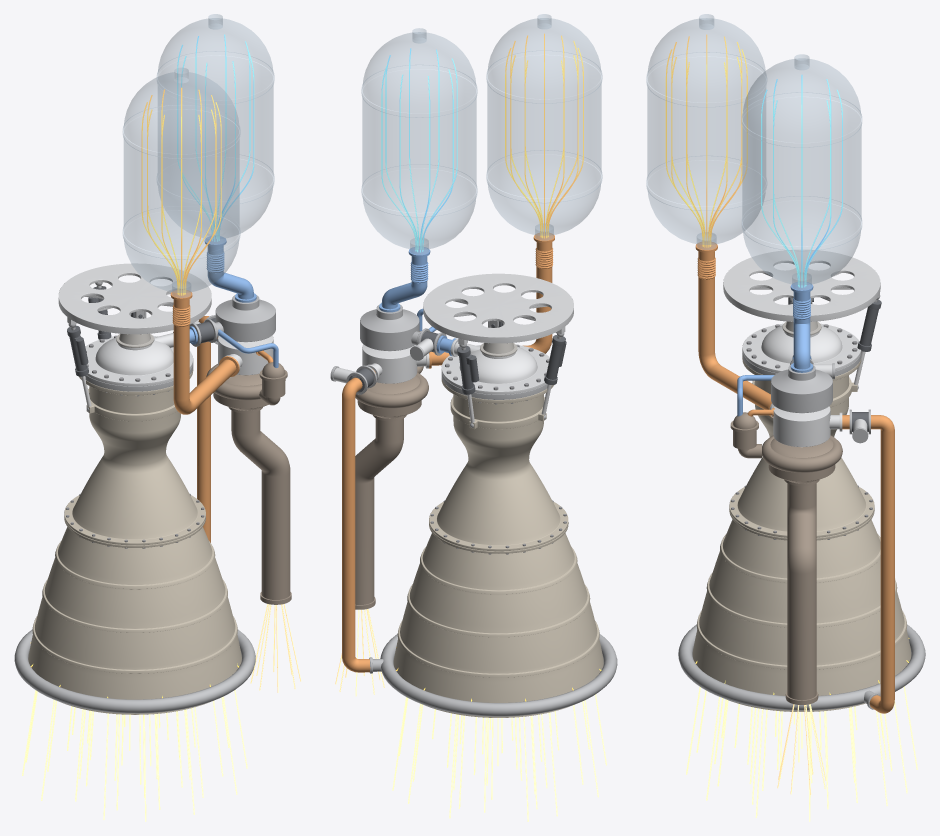
The model's file is gas-generator_d.glb.
The picture shows the model from 3 angles, left to right: view 1: azimuth 30°, elevation 25°; view 2: azimuth 150°, elevation 25°; view 3: azimuth 270°, elevation 25°; orthographic projection. The views are drawn at different scales.
Visible parts, largest first — view 1: GG_Nozzle, GG_TankFuel, GG_TankOxidizer, GG_ChamberJacket, GG_ThrustMount, GG_TurbineExhaust, GG_FuelManifold, GG_FLOW_HotGas, GG_OxidizerDome, GG_FeedLineFuel, GG_FLOW_Fuel, GG_FLOW_Oxidizer (+9 smaller); view 2: GG_Nozzle, GG_TankFuel, GG_TankOxidizer, GG_ChamberJacket, GG_ThrustMount, GG_TurbineExhaust, GG_FuelManifold, GG_InletLineFuel, GG_FLOW_HotGas, GG_OxidizerDome, GG_FLOW_Fuel, GG_FLOW_Oxidizer (+11 smaller); view 3: GG_Nozzle, GG_TankOxidizer, GG_TankFuel, GG_ThrustMount, GG_ChamberJacket, GG_TurbineExhaust, GG_InletLineFuel, GG_FuelManifold, GG_FLOW_HotGas, GG_OxidizerDome, GG_FeedLineFuel, GG_FLOW_Fuel (+9 smaller).
Part boxes in pixels (<box>): GG_Nozzle: <box>28,517,241,714</box>; GG_TankFuel: <box>123,68,240,297</box>; GG_TankOxidizer: <box>157,14,274,243</box>; GG_ChamberJacket: <box>64,368,205,545</box>; GG_ThrustMount: <box>58,263,211,334</box>; GG_TurbineExhaust: <box>228,407,291,604</box>; GG_FuelManifold: <box>14,629,255,713</box>; GG_FLOW_HotGas: <box>22,690,247,821</box>; GG_OxidizerDome: <box>85,332,193,386</box>; GG_FeedLineFuel: <box>170,289,239,414</box>; GG_FLOW_Fuel: <box>30,87,238,698</box>; GG_FLOW_Oxidizer: <box>177,34,254,241</box>; GG_Nozzle: <box>393,522,603,717</box>; GG_TankFuel: <box>486,14,602,240</box>; GG_TankOxidizer: <box>361,28,477,254</box>; GG_ChamberJacket: <box>429,378,568,551</box>; GG_ThrustMount: <box>423,273,573,345</box>; GG_TurbineExhaust: <box>355,415,406,609</box>; GG_FuelManifold: <box>369,634,617,716</box>; GG_InletLineFuel: <box>342,369,375,672</box>; GG_FLOW_HotGas: <box>392,694,606,821</box>; GG_OxidizerDome: <box>441,339,549,394</box>; GG_FLOW_Fuel: <box>396,33,601,701</box>; GG_FLOW_Oxidizer: <box>381,48,457,252</box>; GG_Nozzle: <box>692,509,911,711</box>; GG_TankOxidizer: <box>742,54,861,289</box>; GG_TankFuel: <box>646,14,766,249</box>; GG_ThrustMount: <box>723,249,880,321</box>; GG_ChamberJacket: <box>729,356,874,537</box>; GG_TurbineExhaust: <box>784,479,819,704</box>; GG_InletLineFuel: <box>842,415,894,713</box>; GG_FuelManifold: <box>678,624,925,710</box>; GG_FLOW_HotGas: <box>686,686,917,821</box>; GG_OxidizerDome: <box>742,323,861,373</box>; GG_FeedLineFuel: <box>695,241,772,417</box>; GG_FLOW_Fuel: <box>665,34,909,694</box>.
Bounding box in the file's own units: 1.32 × 3.5 × 1.17.
